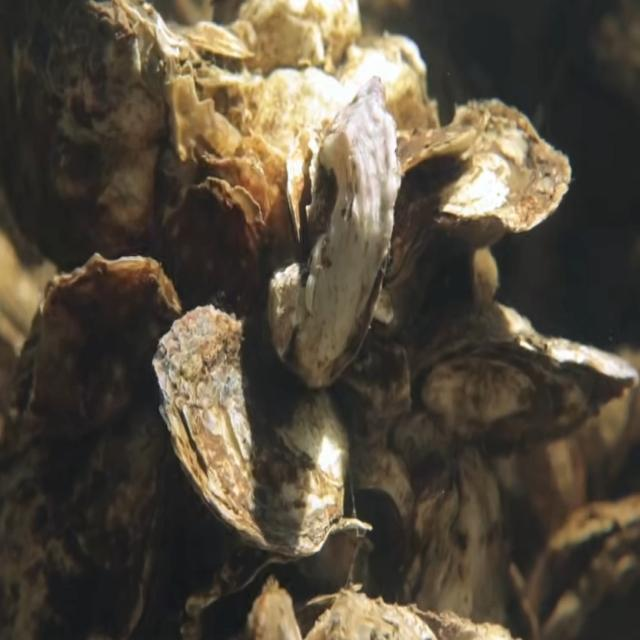Oyster-Closed: (0, 250, 183, 640), (150, 304, 352, 558), (265, 76, 400, 390), (410, 302, 640, 459), (383, 98, 573, 288), (394, 443, 512, 640)
Oyster-Indeterminate: (0, 0, 221, 272), (156, 176, 268, 330)
Oyster-Open: (196, 517, 374, 640), (525, 494, 640, 640)
